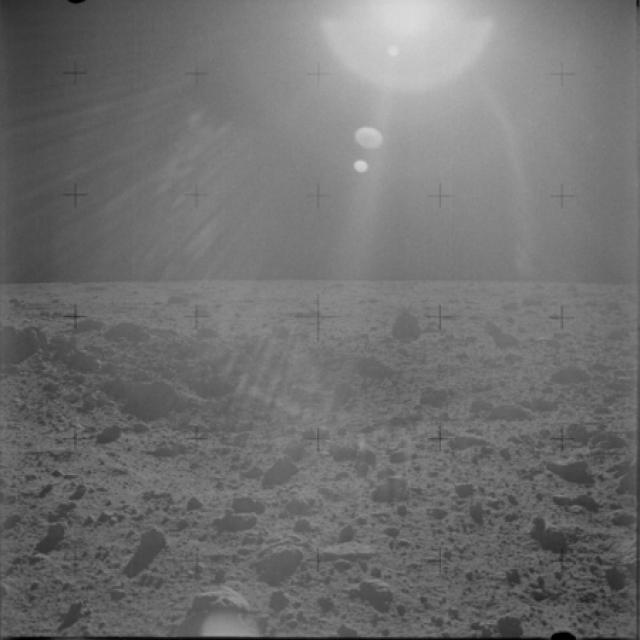rock: (184, 579, 251, 625), (214, 487, 274, 531), (256, 432, 310, 480), (0, 316, 61, 352), (248, 542, 306, 579), (525, 514, 585, 548), (349, 351, 409, 384), (318, 534, 378, 565), (483, 397, 548, 425), (567, 419, 616, 454), (382, 304, 430, 339), (344, 574, 398, 604), (32, 512, 82, 544), (547, 452, 600, 482), (325, 437, 385, 463), (606, 447, 638, 495), (105, 317, 159, 344), (474, 317, 520, 348), (556, 354, 592, 390), (412, 384, 466, 408), (137, 516, 175, 550), (280, 491, 325, 519), (367, 478, 412, 504), (444, 428, 491, 452), (68, 306, 106, 335), (190, 319, 225, 343), (94, 422, 132, 442), (187, 299, 211, 317)
